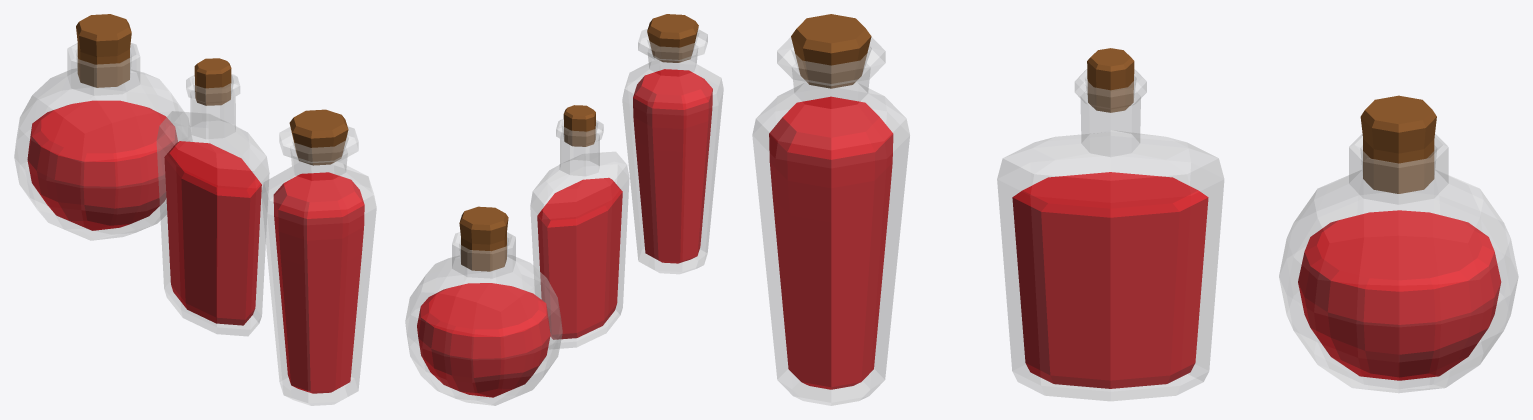
The model's file is Potions.fbx.
3 views of the same model, side by side, from view 1: azimuth 30°, elevation 25°; view 2: azimuth 150°, elevation 25°; view 3: azimuth 270°, elevation 25° (orthographic). The views are drawn at different scales.
Parts seen in each view (by area): view 1: Potion2, Potion1, Potion3; view 2: Potion2, Potion1, Potion3; view 3: Potion3, Potion2, Potion1.
Boxes of the visible parts, <box> form: Potion2: <box>14,14,192,240</box>; Potion1: <box>261,109,376,405</box>; Potion3: <box>157,58,269,336</box>; Potion2: <box>405,206,562,405</box>; Potion1: <box>622,14,723,273</box>; Potion3: <box>530,105,629,349</box>; Potion3: <box>997,48,1223,400</box>; Potion2: <box>1279,95,1518,392</box>; Potion1: <box>752,14,909,405</box>.
Size of the model in its own units: 140 by 232 by 447.
